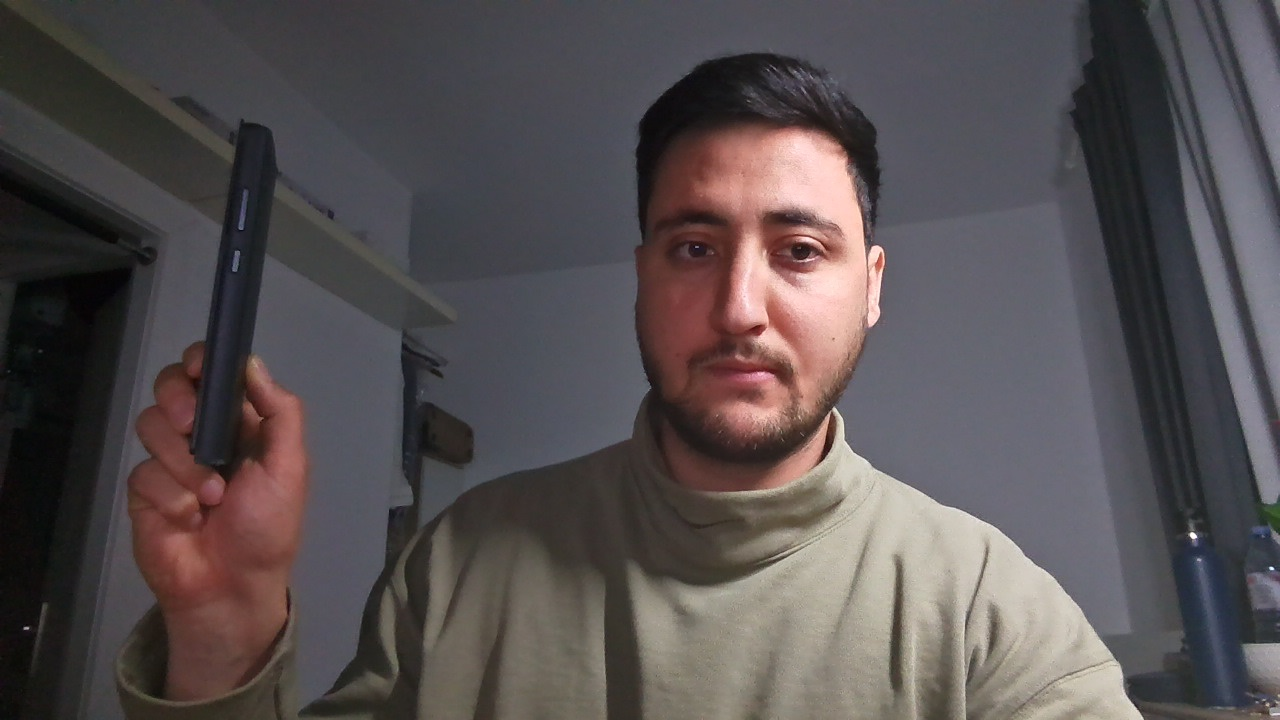Handy: (164, 89, 276, 493)
Wasserflasche: (1149, 497, 1269, 709)
me: (589, 34, 953, 550)
